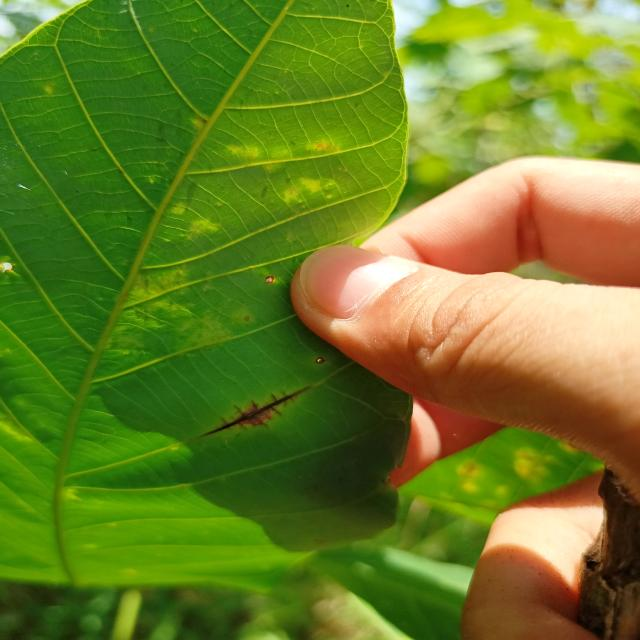Colletotrichum: (264, 276, 275, 284), (316, 357, 324, 364)
Corynespora: (202, 386, 312, 437)
